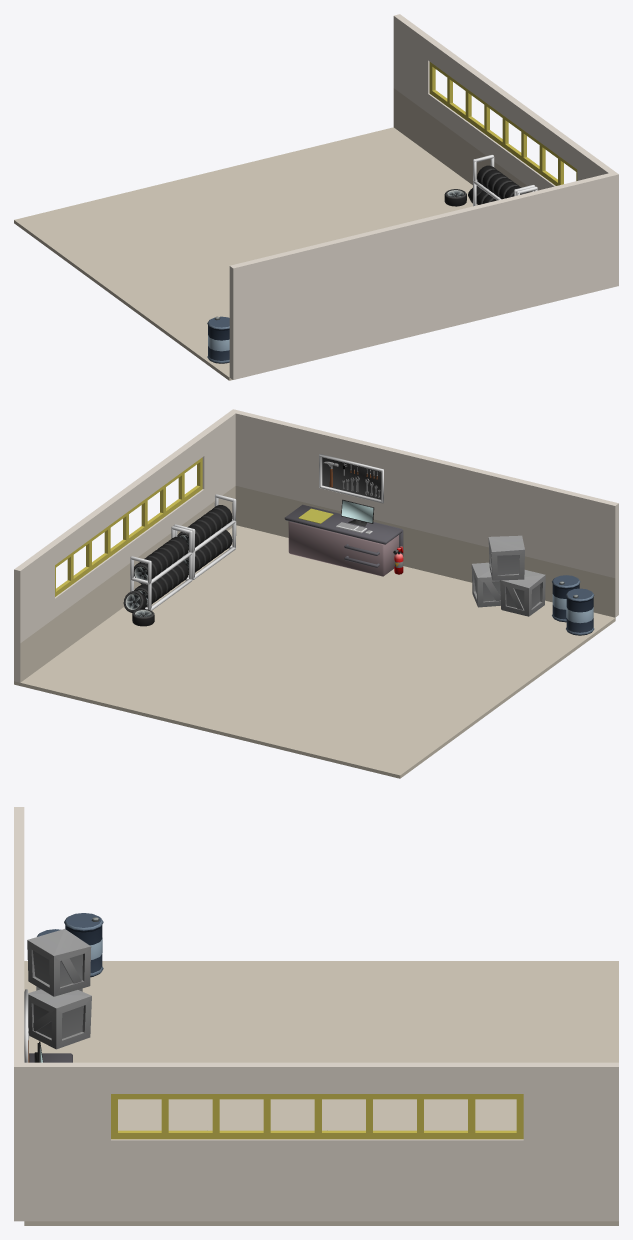
The picture shows the model from 3 angles, top to bottom: view 1: azimuth 30°, elevation 25°; view 2: azimuth 150°, elevation 25°; view 3: azimuth 270°, elevation 25°; orthographic projection. The views are drawn at different scales.
Parts seen in each view (by area): view 1: Wall, Ground, WallWithWindow, TireTable.001, Barrel.001; view 2: Ground, Wall, WallWithWindow, Desk, TireTable.001, Box.002, Box.001, Barrel.001, Box, Barrel; view 3: WallWithWindow, Ground, Box.001, Box, Wall, Barrel.001, Desk.
Part boxes in pixels (box(x1,y1,x2,y2)): Wall: box(229, 173, 612, 379); Ground: box(14, 127, 477, 380); WallWithWindow: box(393, 14, 618, 287); TireTable.001: box(444, 154, 537, 206); Barrel.001: box(207, 316, 229, 363); Ground: box(14, 525, 615, 778); Wall: box(235, 410, 618, 617); WallWithWindow: box(14, 409, 238, 682); Desk: box(284, 454, 403, 576); TireTable.001: box(123, 494, 236, 626); Box.002: box(500, 570, 545, 616); Box.001: box(488, 535, 524, 580); Barrel.001: box(565, 588, 594, 635); Box: box(471, 562, 500, 607); Barrel: box(552, 575, 580, 622); WallWithWindow: box(14, 1062, 618, 1221); Ground: box(24, 961, 618, 1225); Box.001: box(27, 929, 91, 996); Box: box(28, 989, 91, 1049); Wall: box(14, 807, 24, 1062); Barrel.001: box(64, 913, 103, 977); Desk: box(24, 989, 72, 1062).
Bounding box in the file's own units: 24.1 × 6.86 × 23.68.
Materials: 25 (13 with a texture image).
